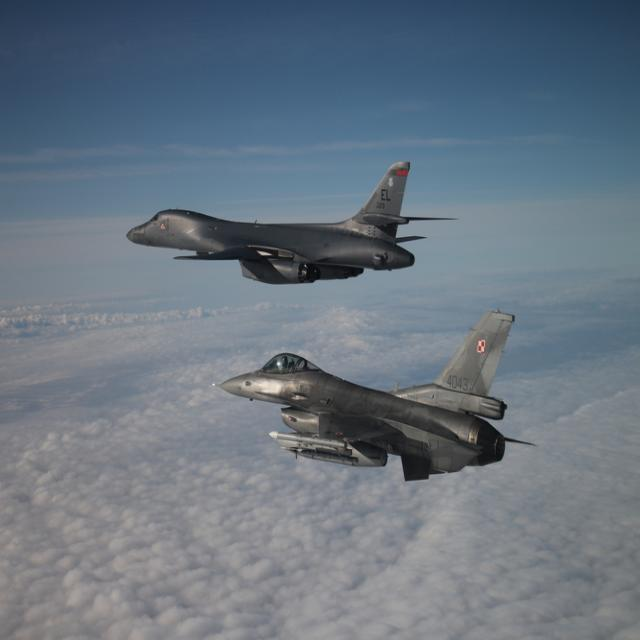MIL_Plane: (211, 308, 538, 482), (129, 160, 456, 285)
